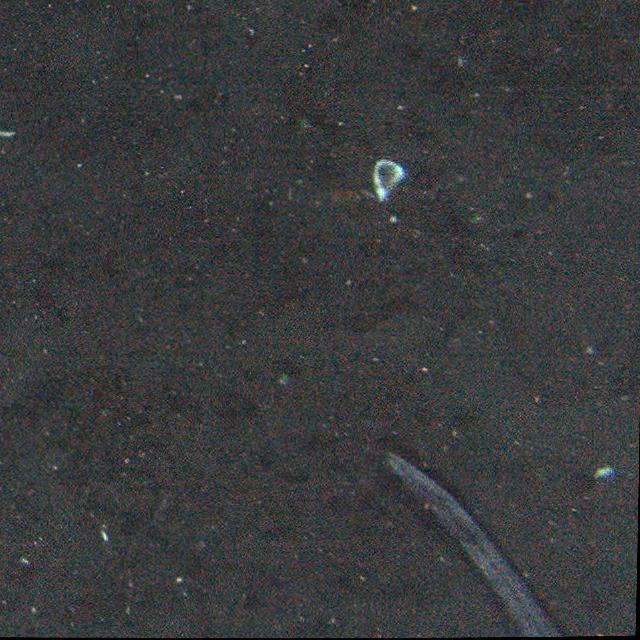skate: (378, 450, 598, 638)
